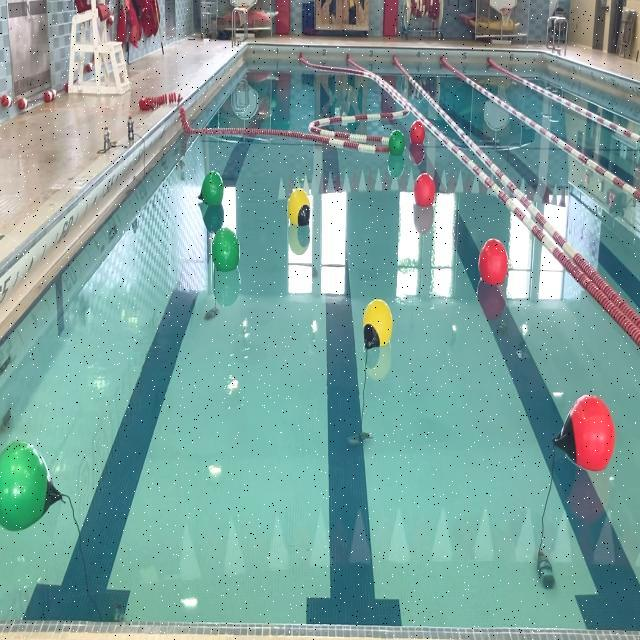buoy: (0, 440, 64, 533), (552, 394, 616, 474), (362, 299, 392, 351), (478, 240, 508, 286), (212, 226, 240, 272), (286, 187, 310, 228), (200, 170, 223, 210), (414, 172, 436, 210), (408, 121, 426, 147), (390, 130, 406, 156)
